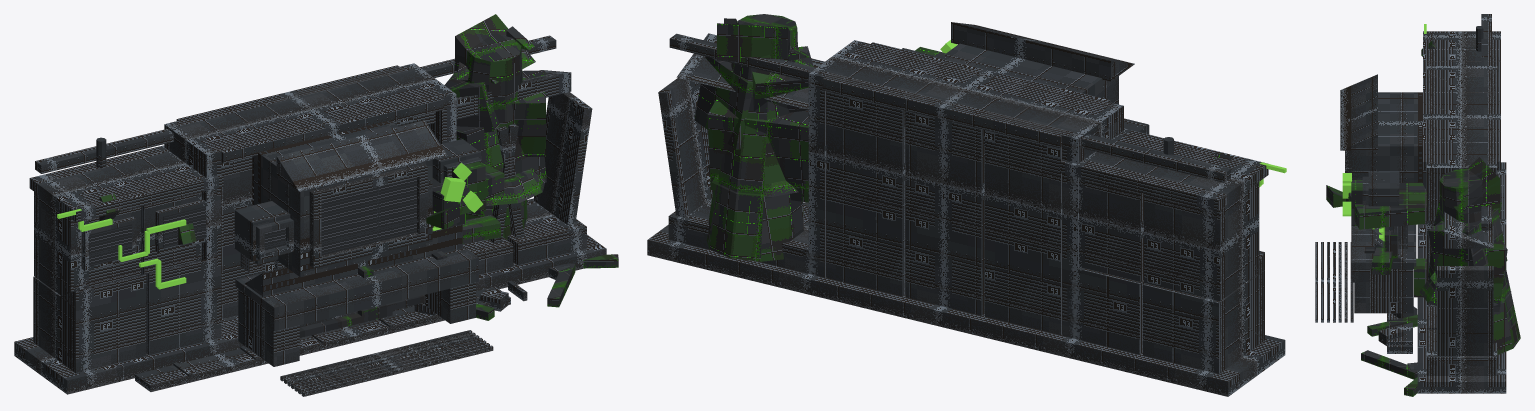
The model's file is epsilon_installation.glb.
3 views of the same model, side by side, from view 1: azimuth 30°, elevation 25°; view 2: azimuth 150°, elevation 25°; view 3: azimuth 270°, elevation 25° (orthographic). The views are drawn at different scales.
Visible parts, largest first — view 1: epsilon_installation; view 2: epsilon_installation; view 3: epsilon_installation.
Part boxes in pixels (box(x1,y1,x2,y2)): epsilon_installation: box(14, 14, 618, 396); epsilon_installation: box(647, 14, 1286, 396); epsilon_installation: box(1315, 14, 1520, 396).
Size of the model in its own units: 9.02 by 3.55 by 3.48.
Materials: 5 (4 with a texture image).
